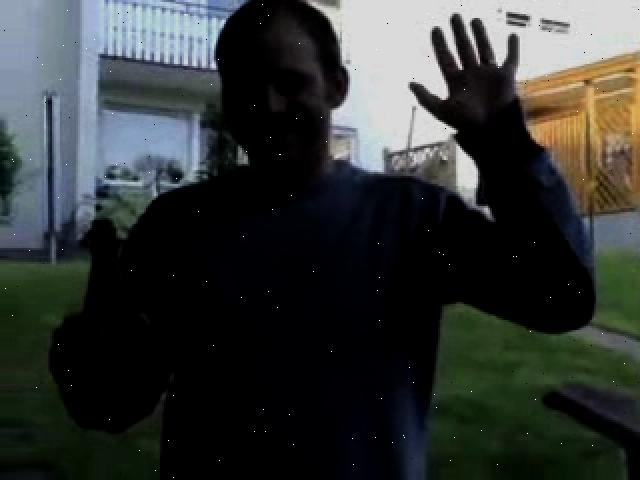L: (54, 3, 595, 476)
